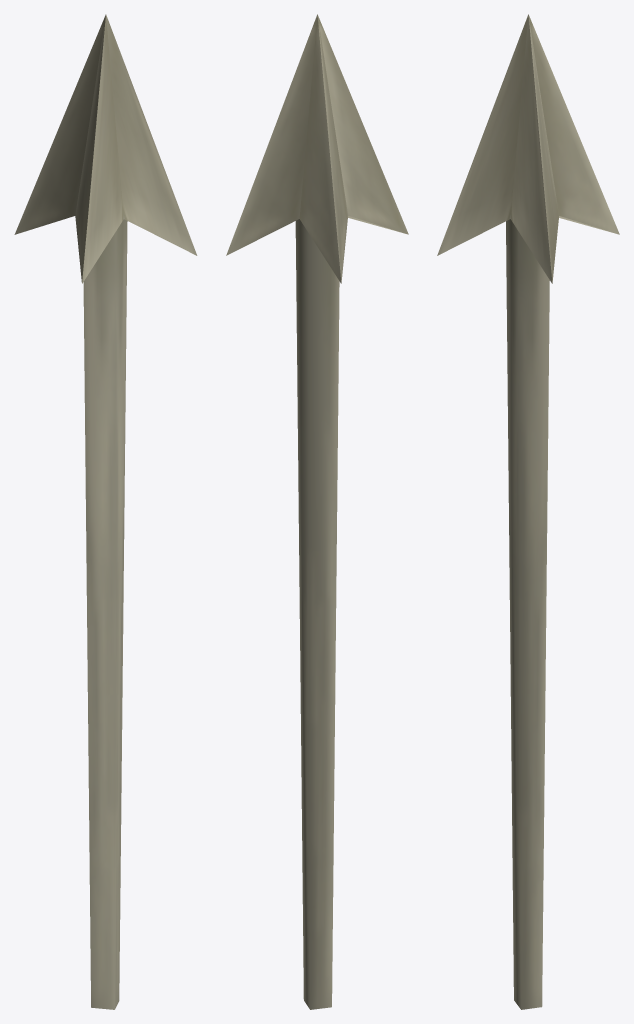
Rendered from gujian.FBX.
The picture shows the model from 3 angles, left to right: view 1: azimuth 30°, elevation 25°; view 2: azimuth 150°, elevation 25°; view 3: azimuth 330°, elevation 25°; orthographic projection.
Parts seen in each view (by area): view 1: Box02; view 2: Box02; view 3: Box02.
Boxes of the visible parts, x1=… form: Box02: x1=14, y1=14, x2=197, y2=1009; Box02: x1=226, y1=14, x2=408, y2=1009; Box02: x1=437, y1=14, x2=619, y2=1009.
Bounding box in the file's own units: 6.47 × 53.03 × 6.55.
